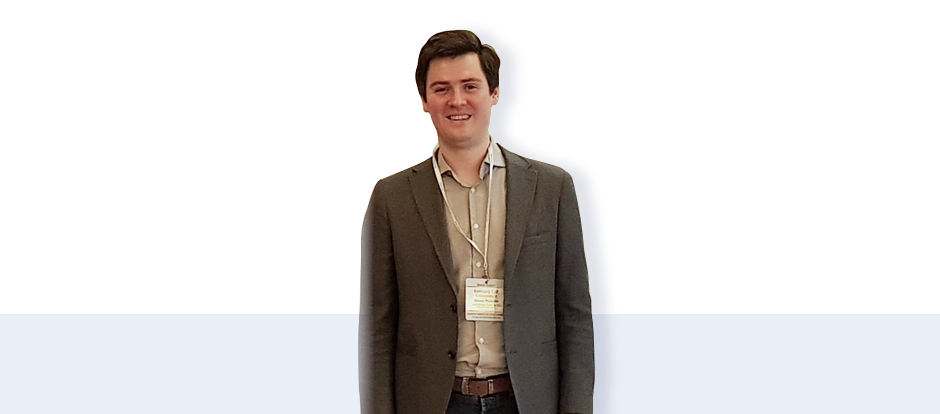human: (346, 24, 609, 414)
